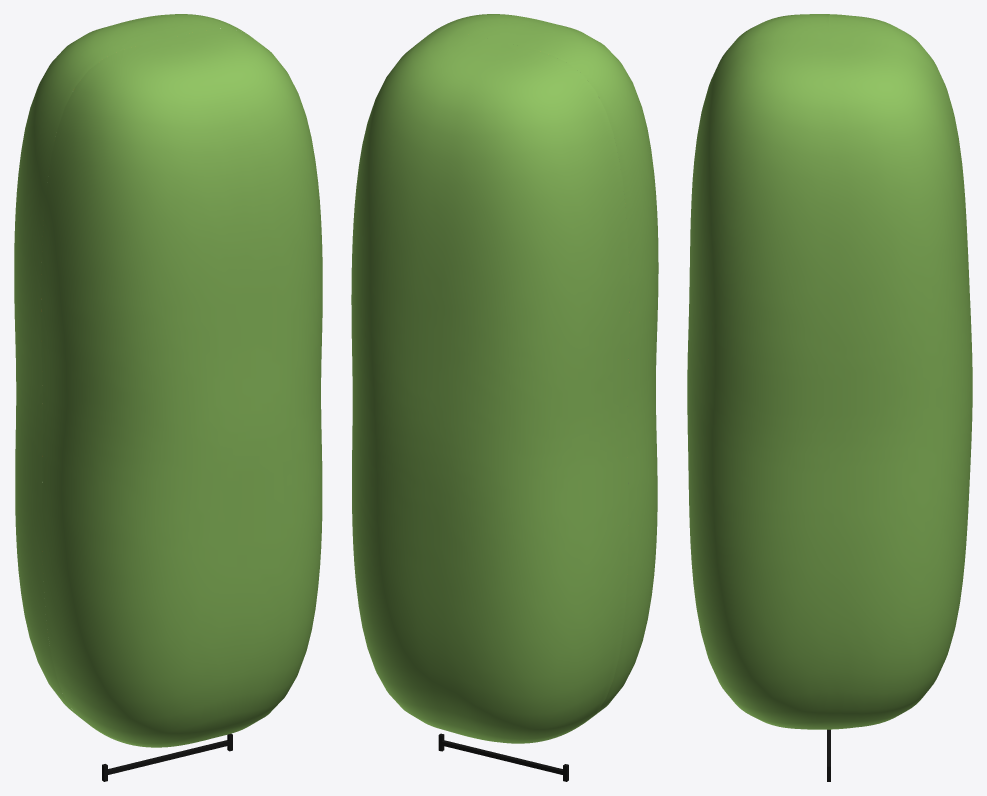
The model's file is zelle56.glb.
The picture shows the model from 3 angles, left to right: view 1: azimuth 30°, elevation 25°; view 2: azimuth 150°, elevation 25°; view 3: azimuth 270°, elevation 25°; orthographic projection. The views are drawn at different scales.
Parts seen in each view (by area): view 1: vorderseite_wand, zellwand_wand, zellwand_massstab; view 2: zellwand_wand, vorderseite_wand, zellwand_massstab; view 3: vorderseite_wand, zellwand_wand.
Boxes of the visible parts, bbox=[...] form: vorderseite_wand: bbox=[41, 28, 322, 747]; zellwand_wand: bbox=[14, 14, 245, 713]; zellwand_massstab: bbox=[102, 733, 232, 781]; zellwand_wand: bbox=[351, 33, 629, 743]; vorderseite_wand: bbox=[426, 14, 658, 722]; zellwand_massstab: bbox=[438, 733, 568, 781]; vorderseite_wand: bbox=[687, 14, 828, 729]; zellwand_wand: bbox=[829, 14, 972, 729].
Size of the model in its own units: 20.2 by 55.52 by 20.17.
